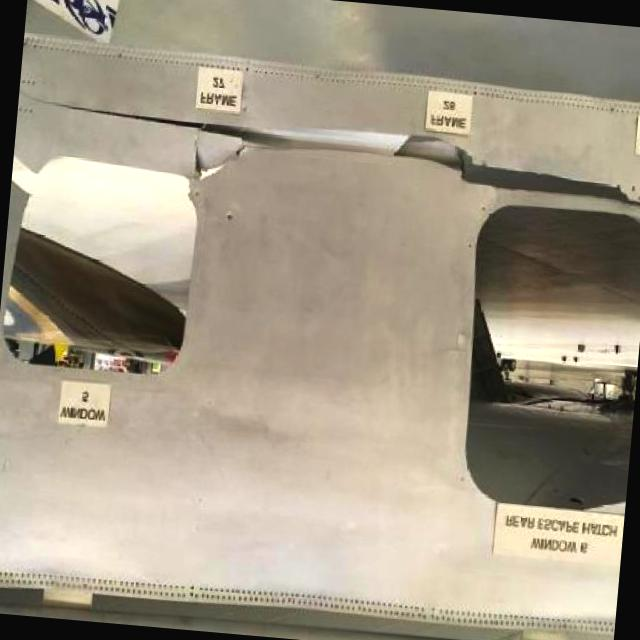crack: (18, 83, 640, 214)
